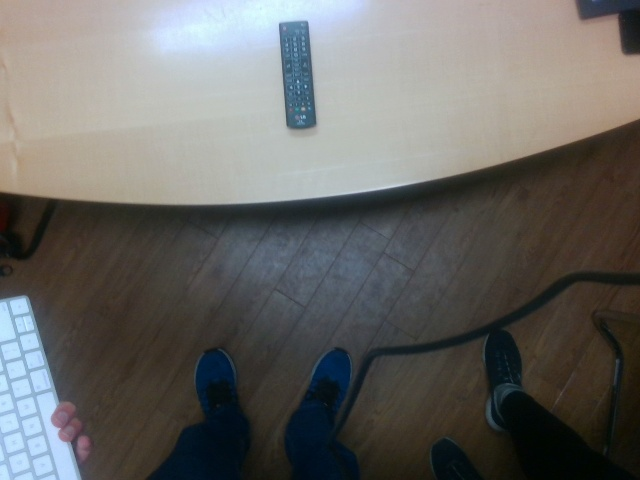remote: (280, 21, 321, 128)
